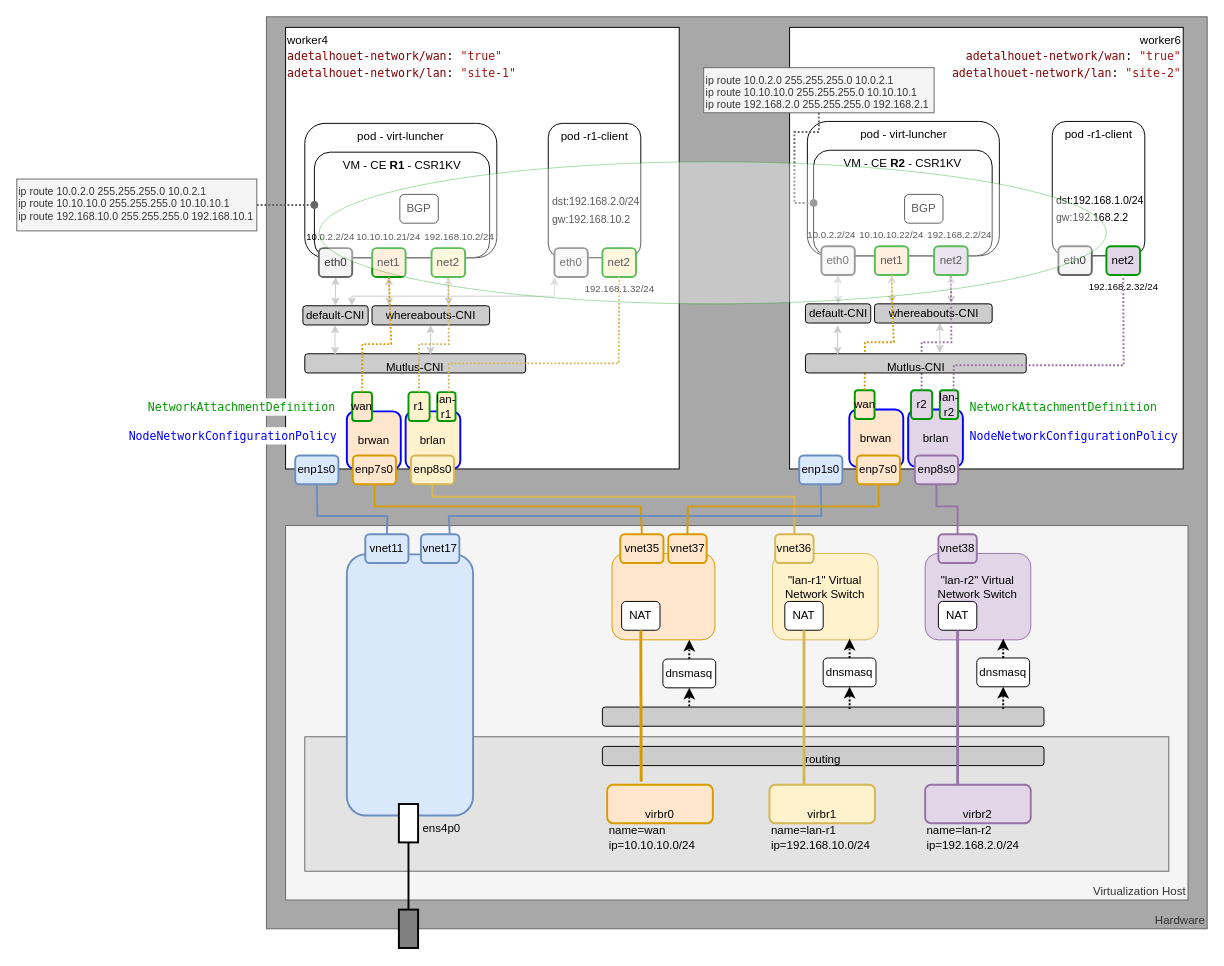
Image size: 1224x966. Some labels were removed from this diagram. The shapes that lost their labels are listed below. From the top down, each one's box as (x1, y1, x2, y2) in pixels, then its label:
(318, 161, 1106, 304): AS 65000
(611, 552, 715, 640): "wan" Virtual Network Switch
(345, 553, 474, 816): br-int
(601, 706, 1044, 726): libvirtd
(304, 736, 1169, 871): Linux Network Stack
